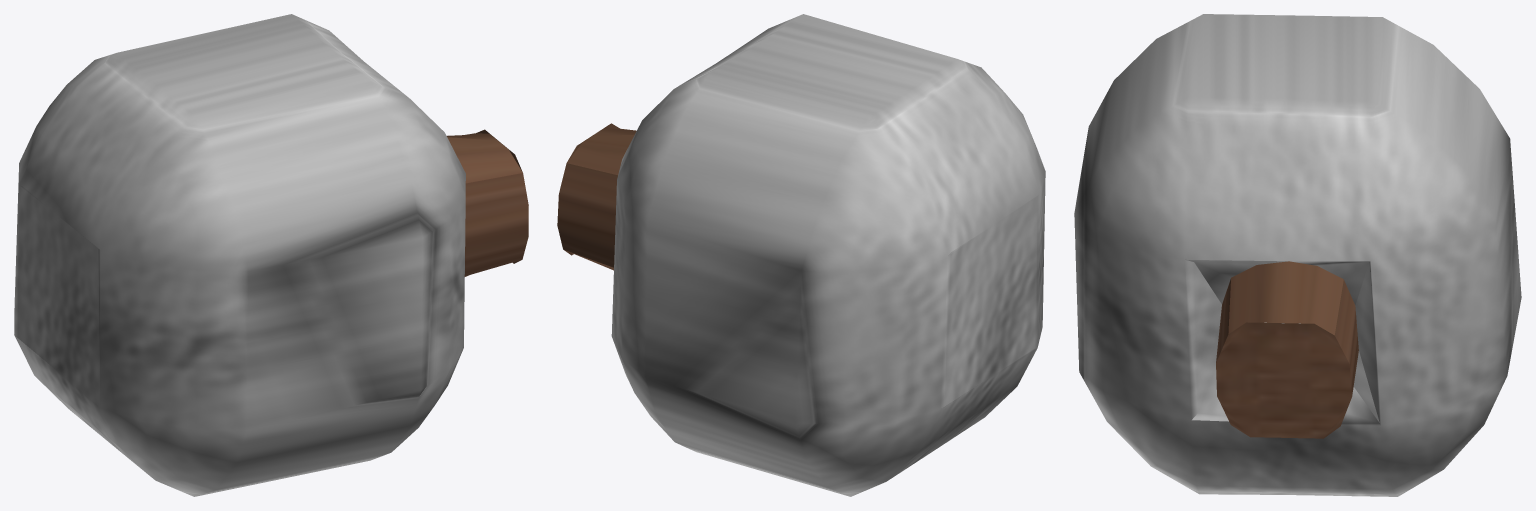
File: white_handle.fbx
3 renders of one model, left to right at view 1: azimuth 30°, elevation 25°; view 2: azimuth 150°, elevation 25°; view 3: azimuth 270°, elevation 25°, orthographic. The views are drawn at different scales.
Visible parts, largest first — view 1: white_handle; view 2: white_handle; view 3: white_handle.
Part boxes in pixels (<box>): white_handle: <box>14,14,528,496</box>; white_handle: <box>557,14,1045,496</box>; white_handle: <box>1074,14,1521,496</box>.
Bounding box in the file's own units: 1.94 × 1.64 × 1.68.
